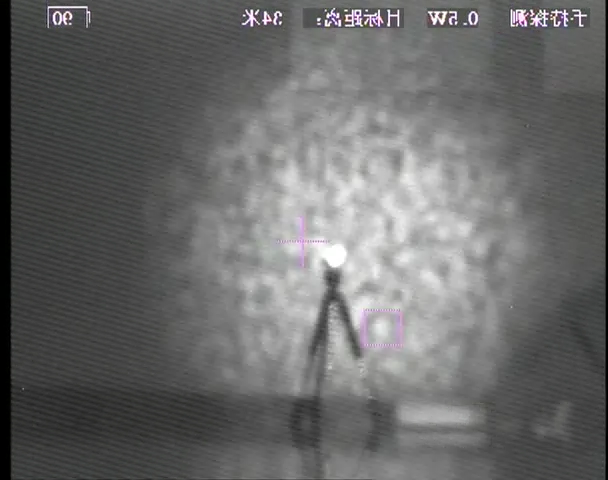my: (322, 241, 349, 269)
